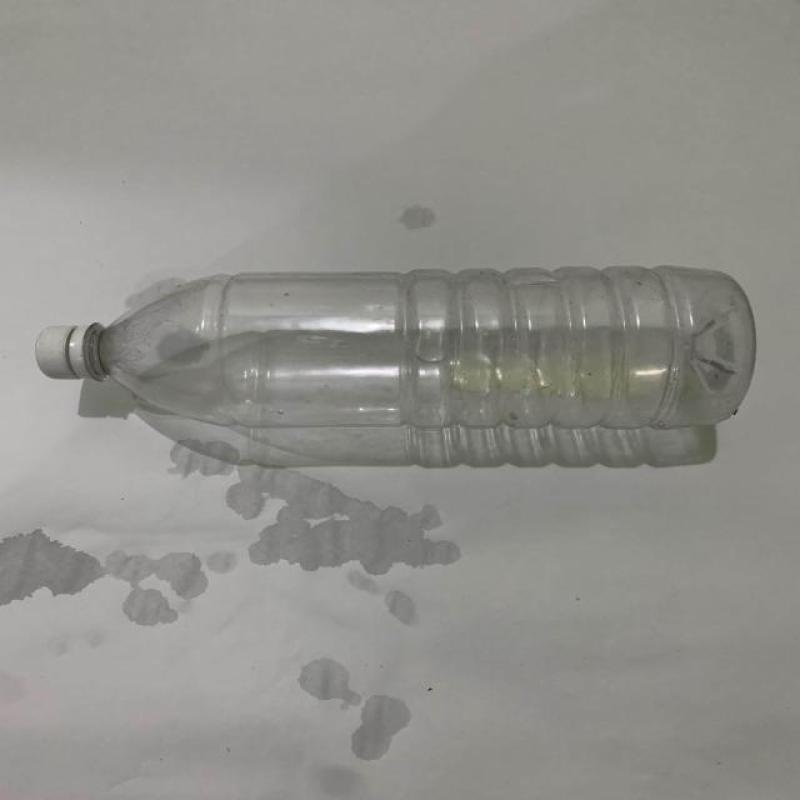botella: (38, 268, 748, 432)
